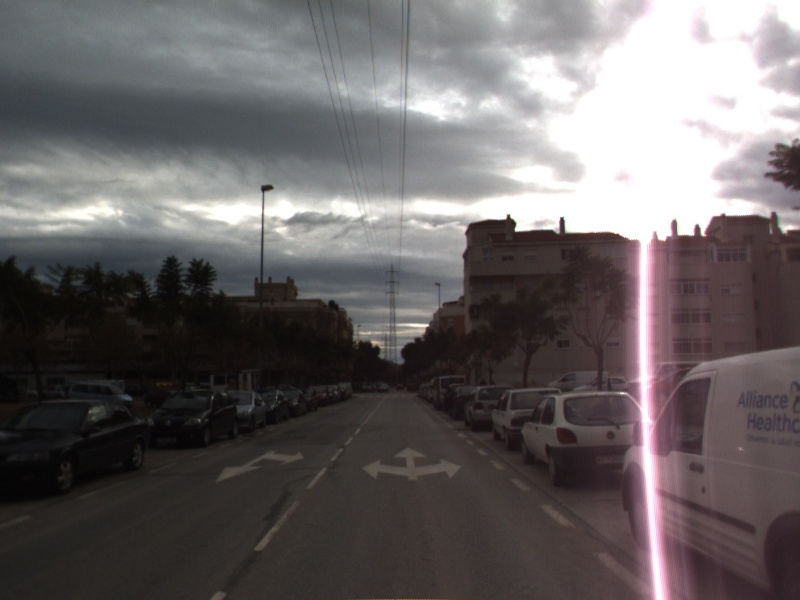STRAIGHT_LEFT_RIGHT: (360, 445, 463, 482)
